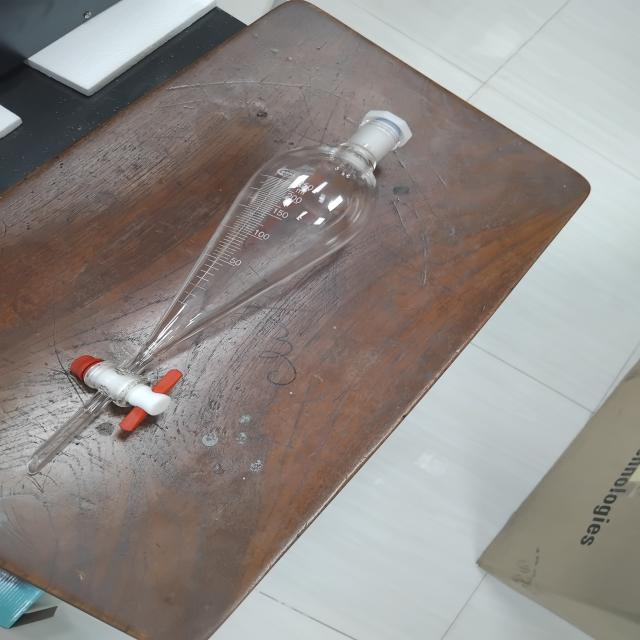Separating_Funnel: (11, 94, 428, 500)
